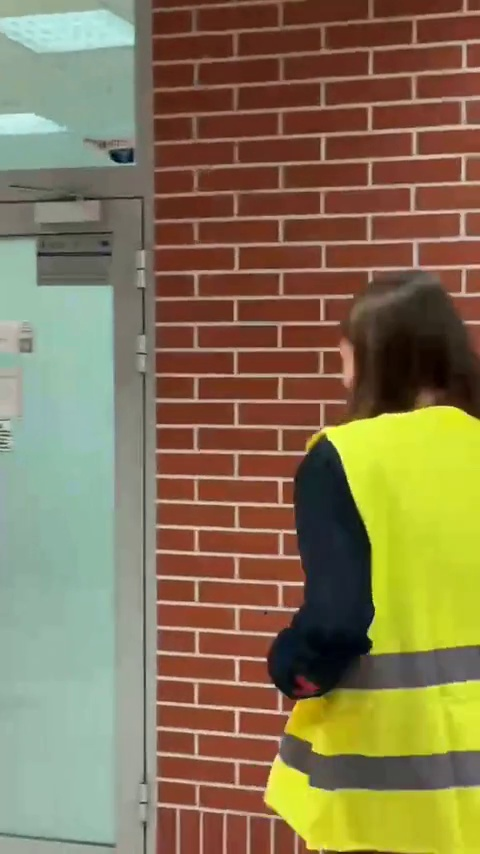vest: (257, 277, 477, 854)
